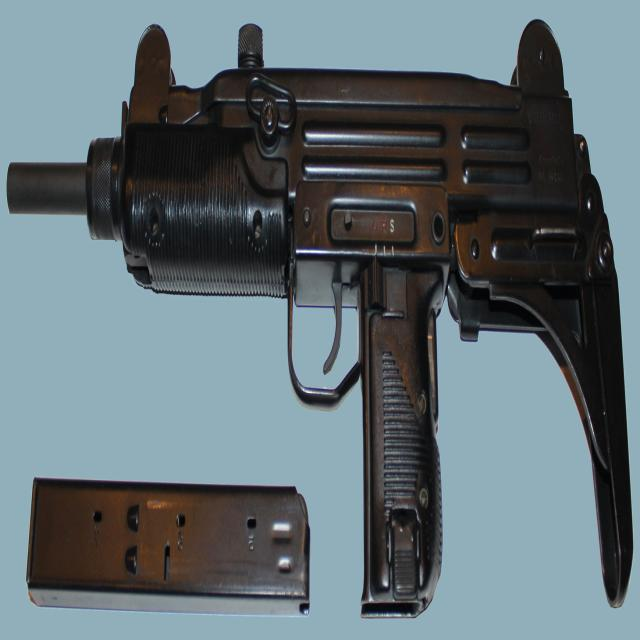SMG: (6, 20, 638, 622)
